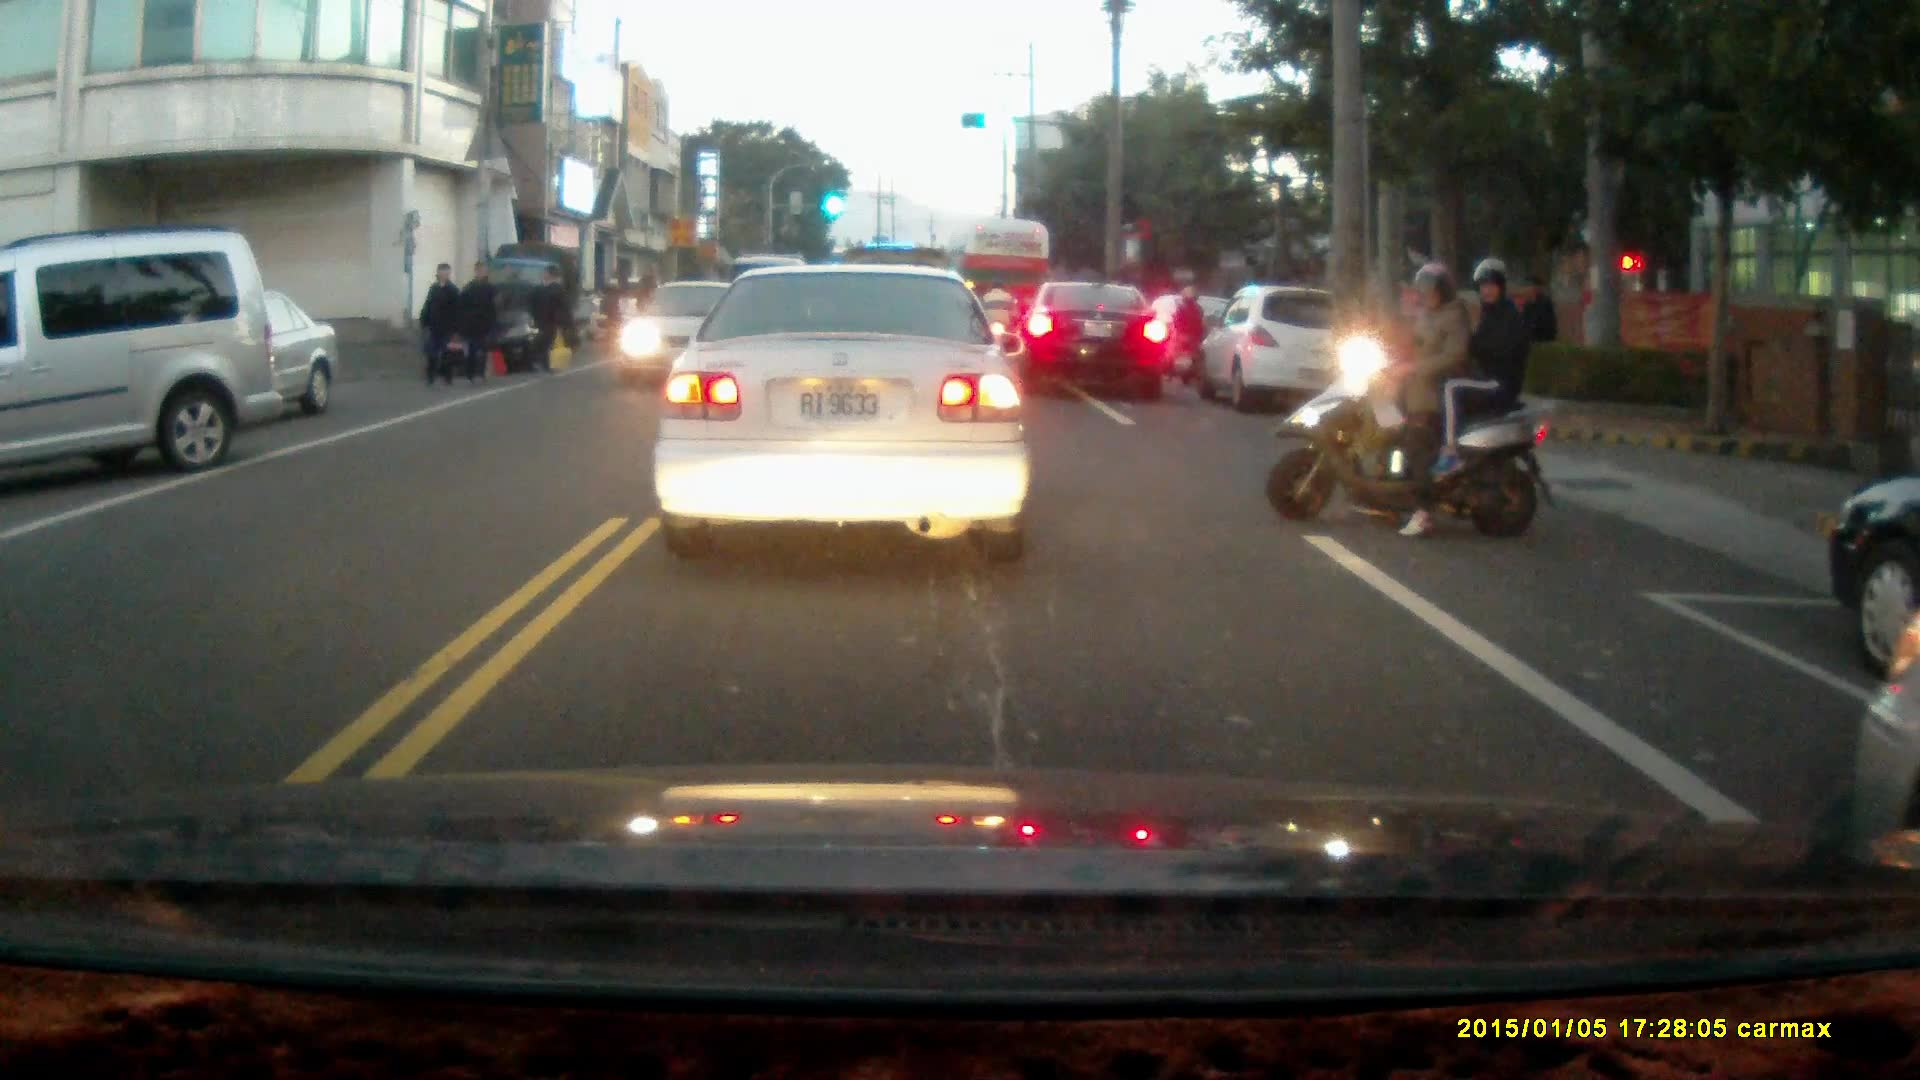pedestrian: (1509, 271, 1560, 392), (417, 263, 462, 389), (520, 263, 565, 373), (460, 260, 497, 382), (598, 261, 631, 351), (632, 262, 661, 346)
rider: (1265, 256, 1551, 541), (1169, 286, 1208, 390)
vehicle: (648, 263, 1037, 566), (1, 222, 267, 480), (73, 289, 341, 427), (1196, 284, 1377, 415), (1010, 282, 1172, 399), (620, 277, 762, 397), (948, 214, 1056, 356)
